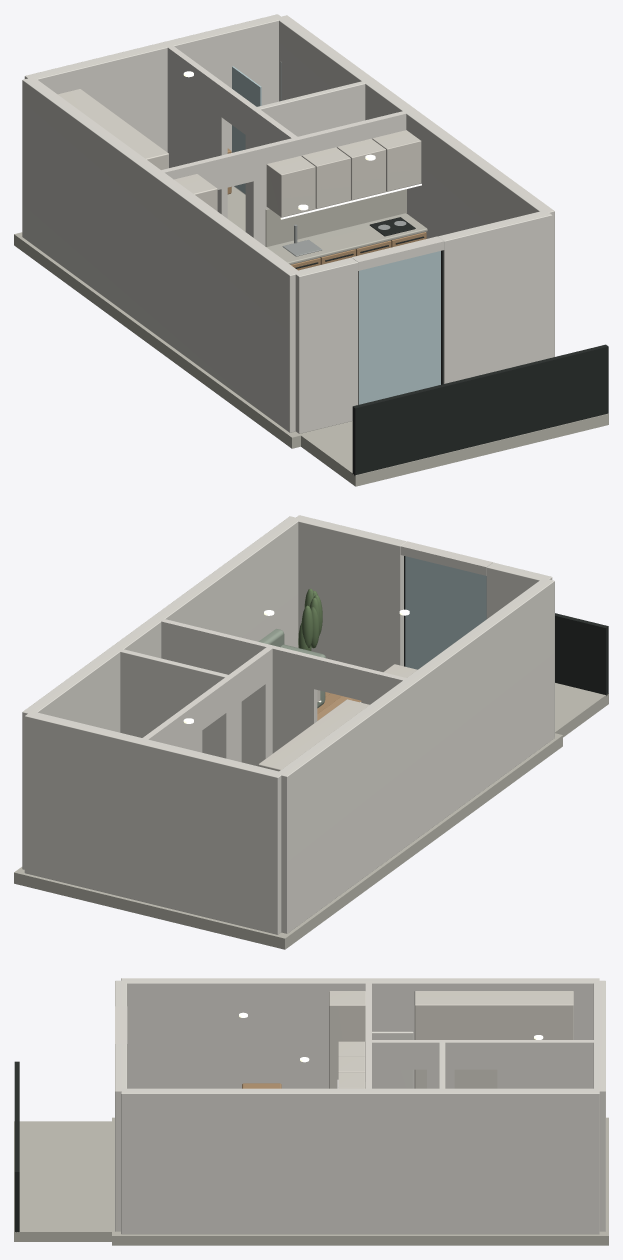
Rendered from interior-1kk.glb.
3 views of the same model, one above another, from view 1: azimuth 30°, elevation 25°; view 2: azimuth 150°, elevation 25°; view 3: azimuth 270°, elevation 25° (orthographic). The views are drawn at different scales.
Parts seen in each view (by area): view 1: External left, Balcony railing, South facade pier.001, External right, External rear, South glazing, South facade pier, Bath partition segment pier B, Balcony floor, Subfloor, Living / hall pier B, Stone splashback (+14 smaller); view 2: External left, External rear, External right, South facade pier.001, Living / hall pier B, Subfloor, South glazing, Bath / WC, Balcony railing, Full height wardrobe, Balcony floor, South facade pier (+9 smaller); view 3: External right, External left, Balcony floor, Full height wardrobe, Subfloor, Bath partition segment pier B, External rear, Full height wardrobe.001, South facade pier.001, Bath partition segment lintel, Service partition segment lintel, Balcony railing (+9 smaller).
Part boxes in pixels (x1,y1,x2,y2): External left: (22, 77, 300, 432); Balcony railing: (352, 344, 608, 475); South facade pier.001: (438, 210, 552, 383); External right: (276, 15, 554, 357); External rear: (24, 14, 281, 186); South glazing: (359, 251, 440, 404); South facade pier: (295, 257, 358, 433); Bath partition segment pier B: (165, 43, 227, 218); Balcony floor: (301, 413, 608, 486); Subfloor: (14, 232, 352, 448); Living / hall pier B: (250, 110, 411, 246); Stone splashback: (265, 187, 406, 246); External left: (276, 578, 554, 933); External rear: (24, 711, 282, 934); External right: (22, 516, 300, 869); South facade pier.001: (294, 515, 406, 671); Living / hall pier B: (158, 619, 317, 766); Subfloor: (14, 733, 562, 949); South glazing: (405, 556, 486, 669); Bath / WC: (116, 648, 230, 756); Balcony railing: (555, 613, 608, 695); Full height wardrobe: (258, 699, 369, 771); Balcony floor: (555, 683, 608, 737); South facade pier: (486, 562, 552, 618); External right: (121, 1088, 599, 1234); External left: (121, 978, 599, 1088); Balcony floor: (14, 1121, 114, 1241); Full height wardrobe: (414, 991, 573, 1088); Subfloor: (112, 1117, 608, 1245); Bath partition segment pier B: (497, 1040, 598, 1088); External rear: (593, 980, 605, 1231); Full height wardrobe.001: (329, 991, 365, 1088); South facade pier.001: (115, 1044, 127, 1231); Bath partition segment lintel: (454, 1040, 497, 1069); Service partition segment lintel: (384, 1040, 426, 1069); Balcony railing: (14, 1061, 19, 1232).
Size of the model in its own units: 4.57 by 2.72 by 9.72.
